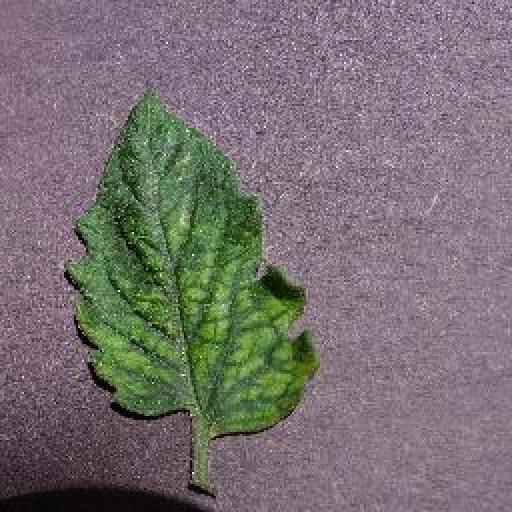Mosaic Virus: (66, 76, 318, 438)
